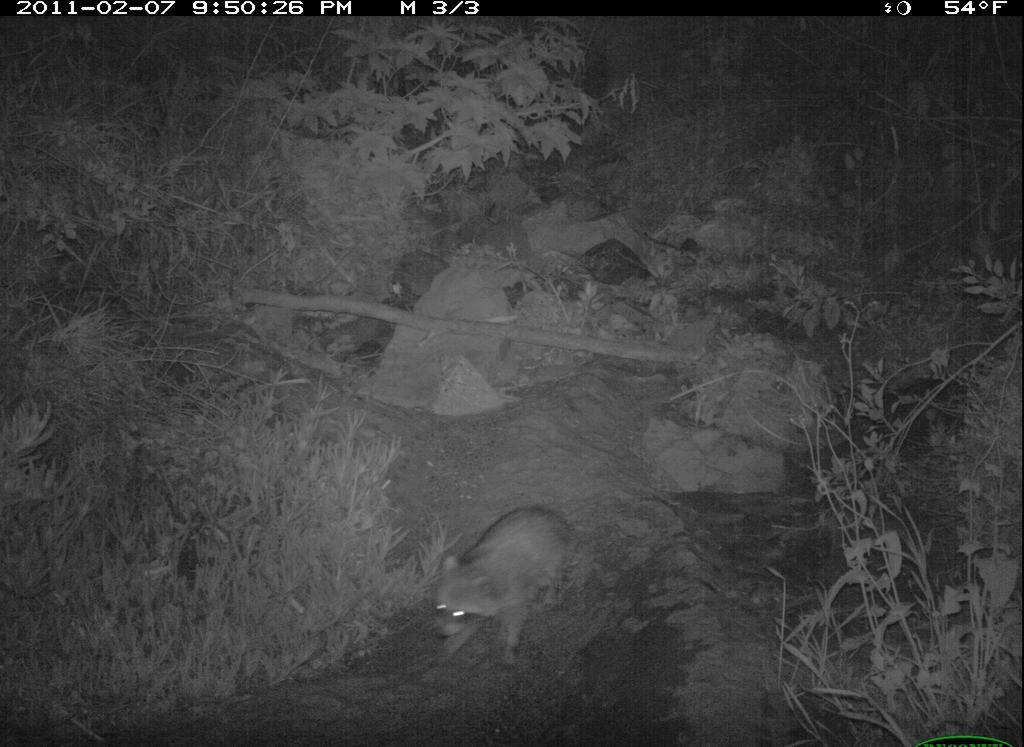raccoon: (413, 495, 589, 666)
